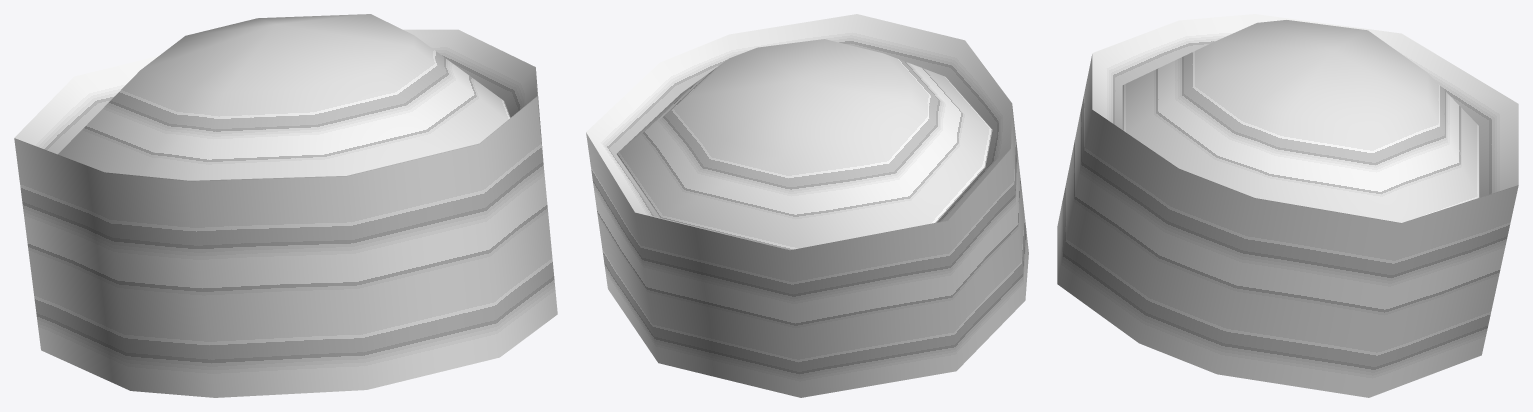
The model's file is code_head63.gltf.
3 renders of one model, left to right at view 1: azimuth 30°, elevation 25°; view 2: azimuth 150°, elevation 25°; view 3: azimuth 270°, elevation 25°, orthographic. The views are drawn at different scales.
Parts seen in each view (by area): view 1: code_head63; view 2: code_head63; view 3: code_head63.
Part boxes in pixels (x1,y1,x2,y2): code_head63: [14, 14, 557, 397]; code_head63: [586, 14, 1028, 397]; code_head63: [1057, 14, 1518, 397].
Size of the model in its own units: 0.7705 by 0.5063 by 0.7932.
Materials: 1 (1 with a texture image).
